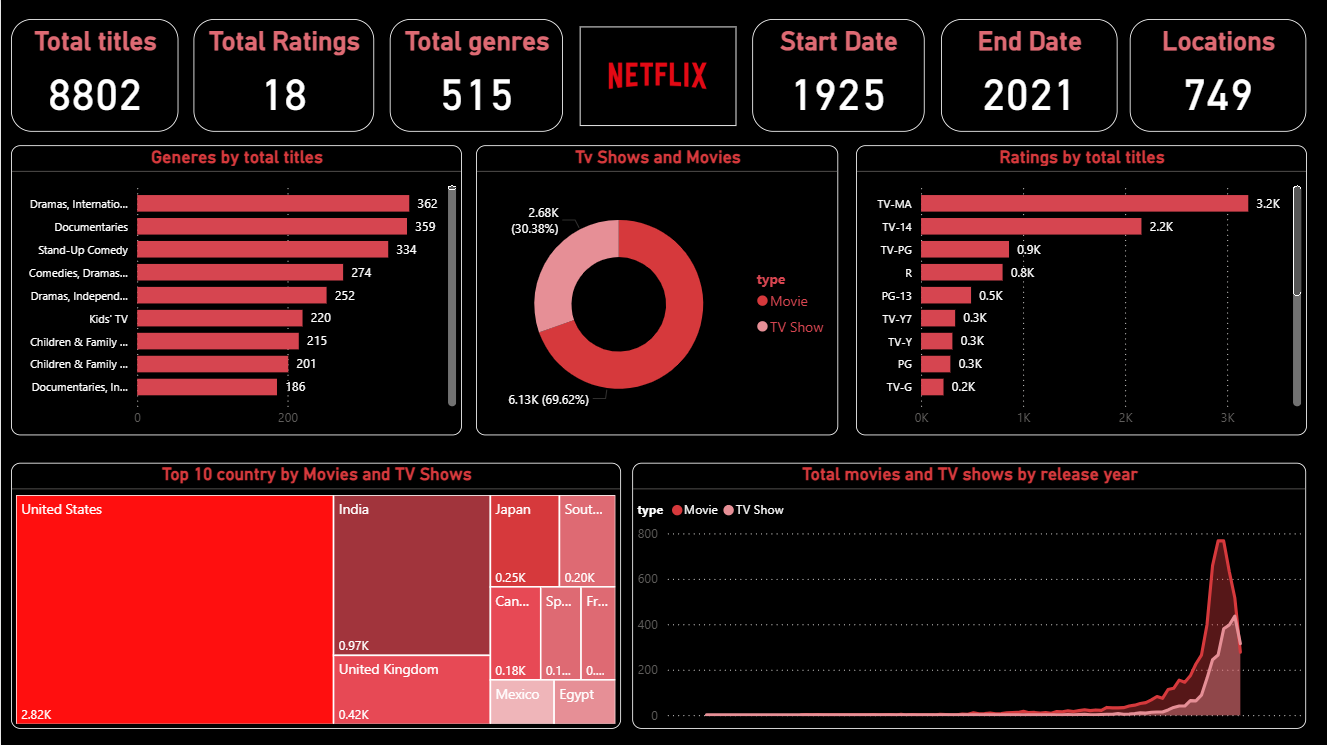

The page's visual inventory and layout, read from the dashboard file:
{"tool":"powerbi","page":{"name":"Page 1","canvas":[1280,720],"ordinal":0},"visuals":[{"type":"donutChart","title":"Tv Shows and Movies","fields":{"Category":["netflix_titles.type"],"Y":["CountNonNull(netflix_titles.show_id)"]},"box":[458.3,141.3,349.9,279.9],"z":0},{"type":"barChart","title":"Ratings by total titles","fields":{"Category":["netflix_titles.rating"],"Y":["Count(netflix_titles.show_id)"]},"box":[824.7,141.3,435,279.9],"z":1000},{"type":"barChart","title":"Generes by total titles","fields":{"Y":["Count(netflix_titles.show_id)"],"Category":["netflix_titles.listed_in"]},"box":[9.6,141.3,435,279.9],"z":2000},{"type":"areaChart","title":"Total movies and TV shows by release year","fields":{"Category":["netflix_titles.release_year"],"Y":["CountNonNull(netflix_titles.show_id)"],"Series":["netflix_titles.type"]},"box":[609.3,447.3,650.4,256.6],"z":3000},{"type":"treemap","title":"Top 10 country by Movies and TV Shows","fields":{"Values":["Count(netflix_titles.show_id)"],"Group":["netflix_titles.country"]},"box":[9.6,447.3,588.7,256.6],"z":4000},{"type":"card","title":"Total titles","fields":{"Values":["Count(netflix_titles.title)"]},"box":[9.6,19.2,161.9,108.4],"z":5000},{"type":"card","title":"Total genres","fields":{"Values":["Count(netflix_titles.listed_in)"]},"box":[374.6,19.2,167.4,108.4],"z":6000},{"type":"card","title":"Total Ratings","fields":{"Values":["Count(netflix_titles.rating)"]},"box":[185.2,19.2,174.3,108.4],"z":7000},{"type":"card","title":"End Date","fields":{"Values":["Max(netflix_titles.release_year)"]},"box":[907,19.2,170.2,108.4],"z":8000},{"type":"card","title":"Start Date","fields":{"Values":["Min(netflix_titles.release_year)"]},"box":[724.5,19.2,166,108.4],"z":9000},{"type":"card","title":"Locations","fields":{"Values":["Count(netflix_titles.country)"]},"box":[1089.5,19.2,170.2,108.4],"z":10000},{"type":"image","box":[558.5,26.1,150.9,96.1],"z":11000}]}

Visuals, with their boxes in screenshot pixels (x1, y1, x2, y2), scaled from the page's 1280x720 canvas onto the 1327x745 screenshot:
"Tv Shows and Movies" donutChart: 475, 146, 838, 436
"Ratings by total titles" barChart: 855, 146, 1306, 436
"Generes by total titles" barChart: 10, 146, 461, 436
"Total movies and TV shows by release year" areaChart: 632, 463, 1306, 728
"Top 10 country by Movies and TV Shows" treemap: 10, 463, 620, 728
"Total titles" card: 10, 20, 178, 132
"Total genres" card: 388, 20, 562, 132
"Total Ratings" card: 192, 20, 373, 132
"End Date" card: 940, 20, 1117, 132
"Start Date" card: 751, 20, 923, 132
"Locations" card: 1130, 20, 1306, 132
image: 579, 27, 735, 126
